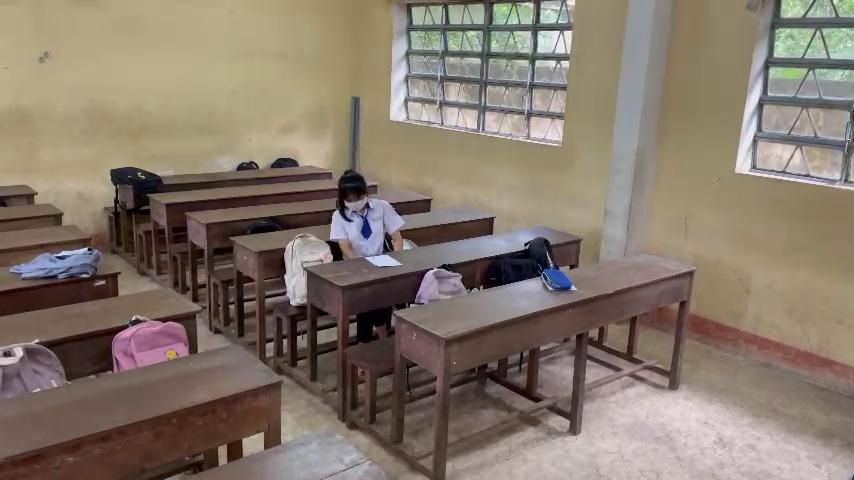Bend Over The Desk: (324, 164, 374, 218)
Look Around: (373, 204, 411, 255), (330, 211, 361, 264)
